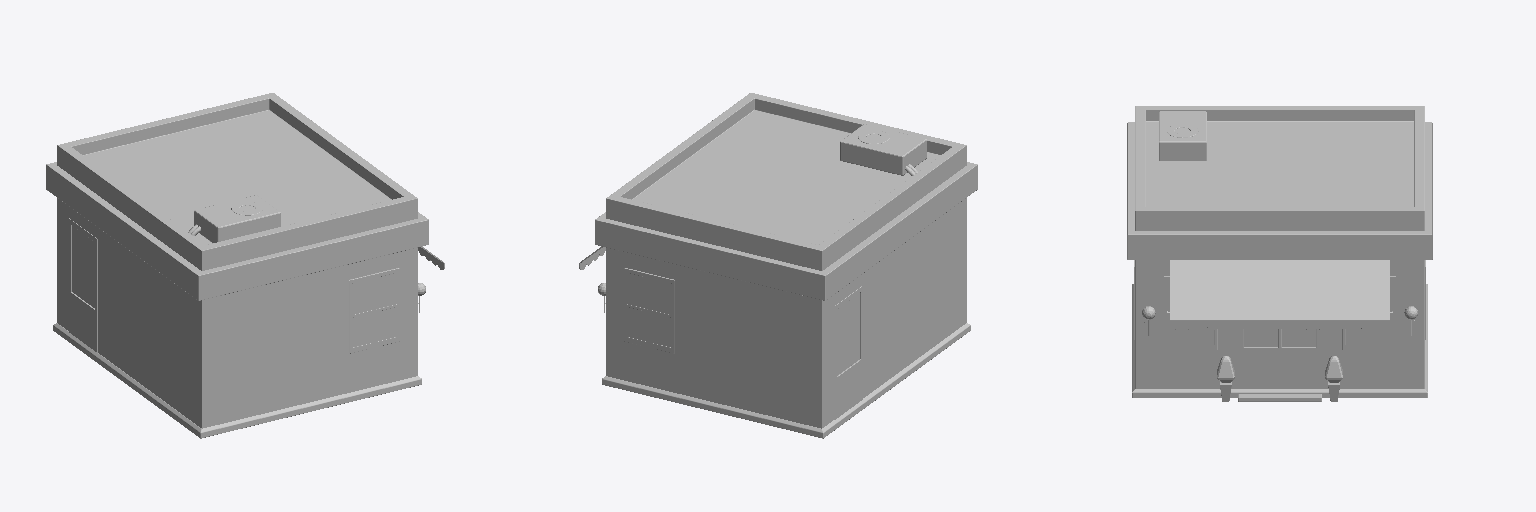
File: edificio9.obj
3 renders of one model, left to right at view 1: azimuth 30°, elevation 25°; view 2: azimuth 150°, elevation 25°; view 3: azimuth 270°, elevation 25°, orthographic.
Parts seen in each view (by area): view 1: house; view 2: house; view 3: house.
Part boxes in pixels (left/top/right/bottom): house: left=46, top=93, right=444, bottom=438; house: left=579, top=93, right=977, bottom=438; house: left=1127, top=106, right=1432, bottom=401.
Size of the model in its own units: 23.3 by 16.19 by 23.